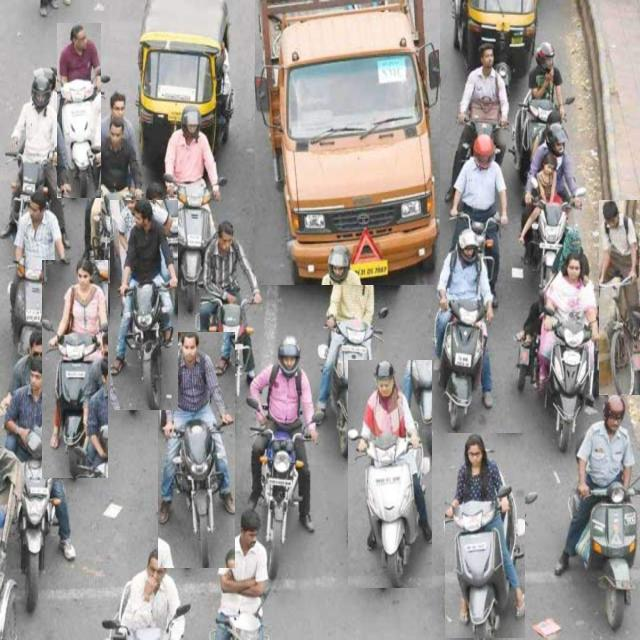autorickshaw: (138, 0, 232, 163)
bicycle: (599, 200, 640, 395)
motorcycle: (348, 360, 432, 588), (555, 395, 636, 630), (158, 332, 235, 568), (5, 357, 75, 612), (249, 337, 318, 578), (445, 434, 525, 638), (518, 253, 599, 451), (42, 260, 108, 478), (110, 200, 178, 410), (314, 245, 378, 455), (200, 220, 262, 426), (436, 228, 494, 429), (164, 105, 220, 312), (519, 123, 584, 288), (10, 190, 65, 355), (57, 24, 100, 198)
truck: (255, 0, 440, 285)
